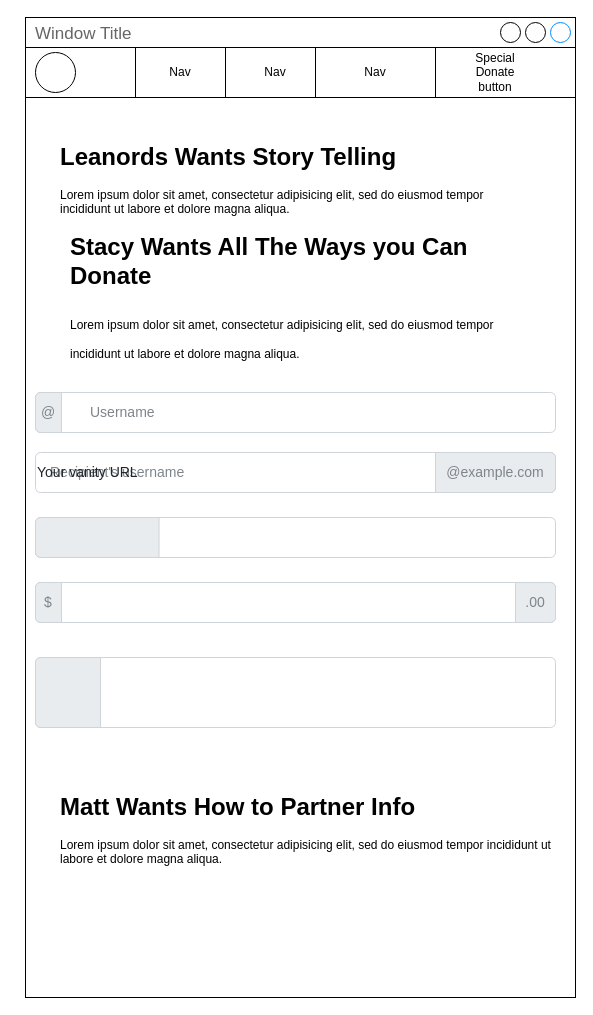
The diagram is 593 pixels wide and 1015 high, and some of its shapes have lost their labels. The shapes that lost their labels are listed below. From the top down, each one's centre as x and y in pixels, then its label:
At (x=96, y=537): "http://example.com/users/".
At (x=67, y=692): "With textarea".
